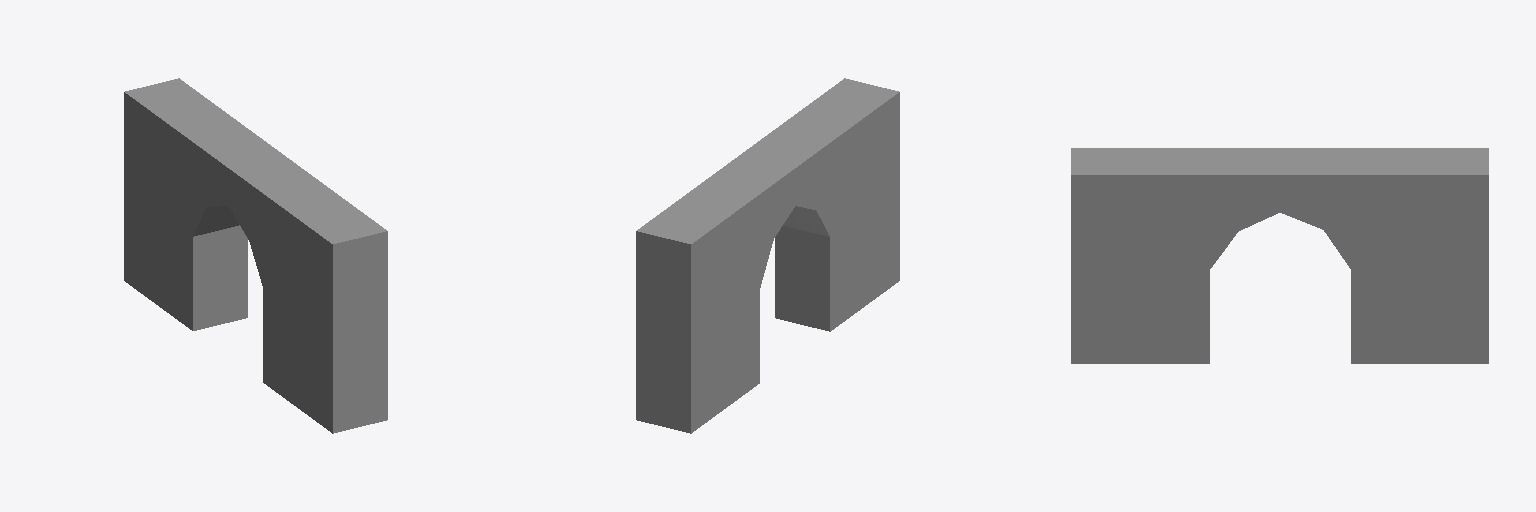
Rendered from ldWallWithDoor.obj.
3 renders of one model, left to right at view 1: azimuth 30°, elevation 25°; view 2: azimuth 150°, elevation 25°; view 3: azimuth 270°, elevation 25°, orthographic.
Parts seen in each view (by area): view 1: Cube; view 2: Cube; view 3: Cube.
Boxes of the visible parts, x1,y1,x2,y2 form: Cube: [124, 78, 387, 433]; Cube: [636, 78, 899, 433]; Cube: [1071, 148, 1488, 363].
Size of the model in its own units: 0.7638 by 2.5 by 5.